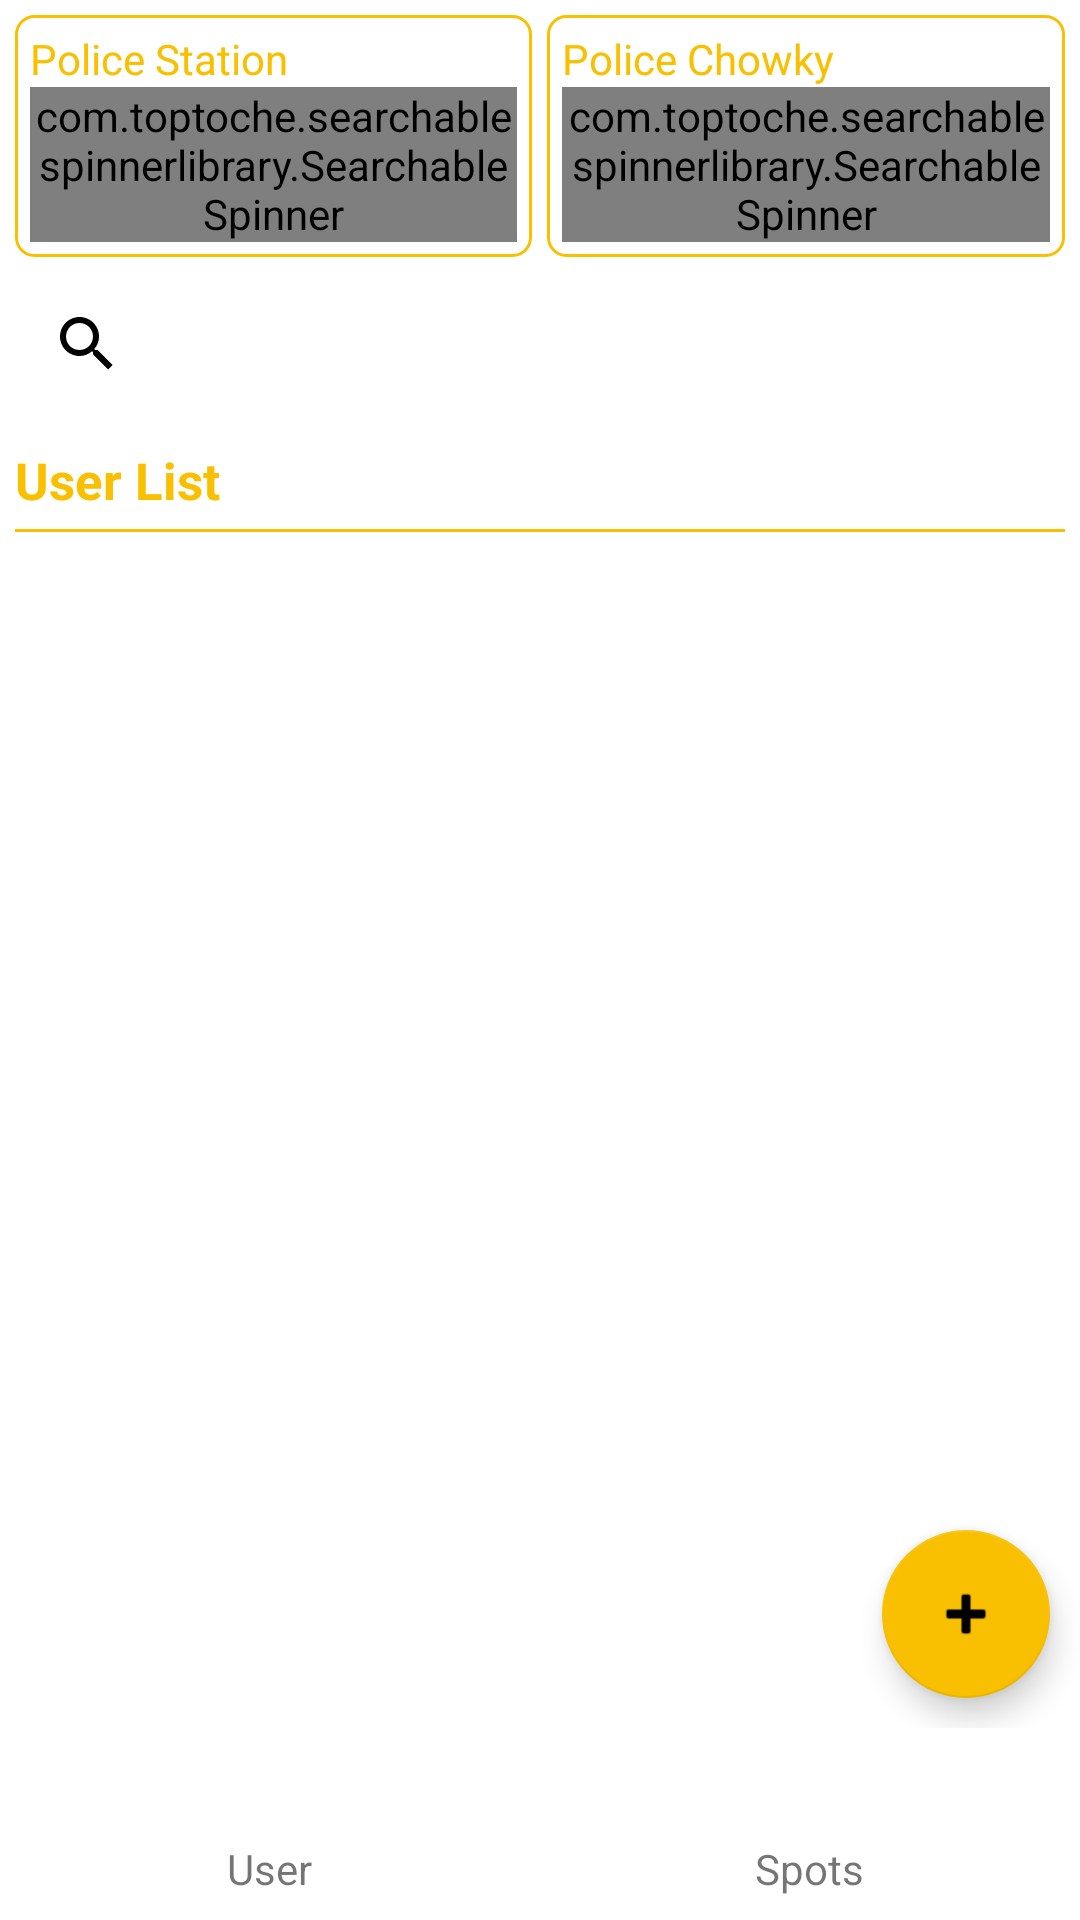

Icon bounding boxes for this 1080 x 1920 phone screenshot, format (x1,y1,x2,y2):
add: (882,1530,1050,1698)
